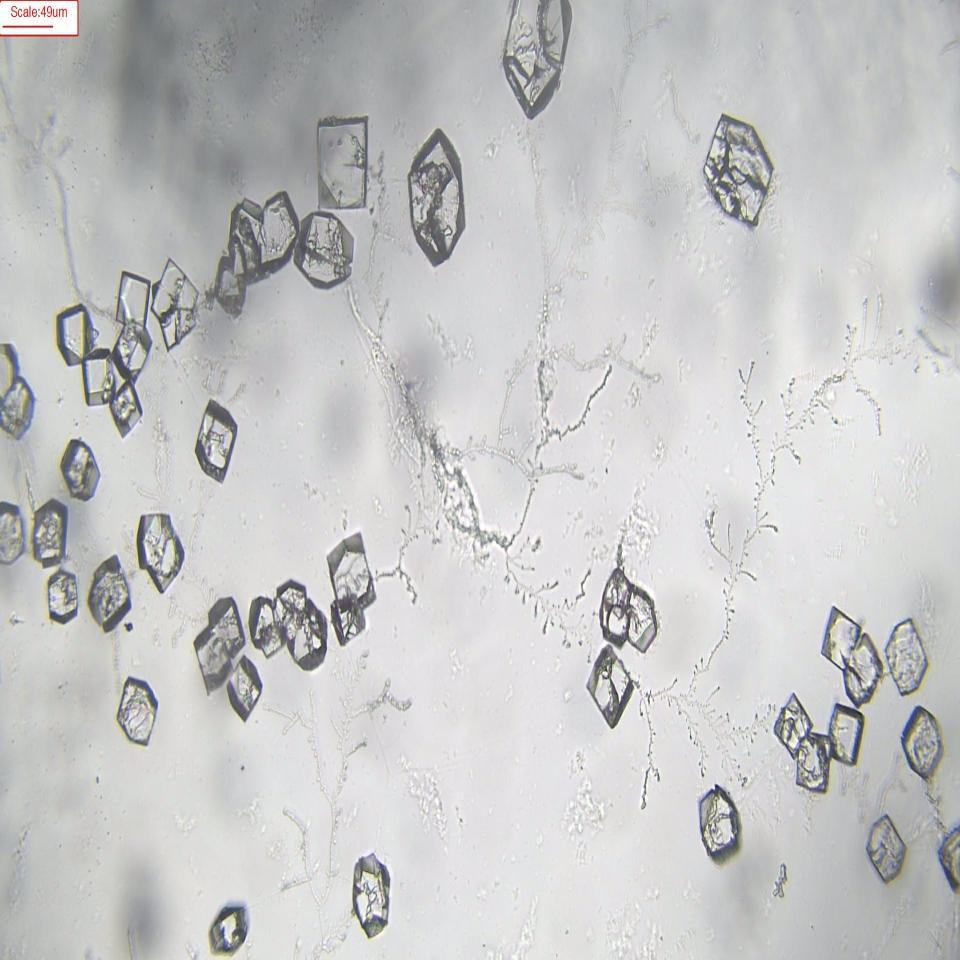crystal: (498, 0, 576, 131), (401, 130, 472, 268), (702, 109, 773, 230), (311, 109, 377, 215), (191, 586, 244, 688), (146, 254, 203, 344), (293, 214, 358, 290), (584, 642, 637, 728), (192, 398, 245, 482), (132, 508, 186, 589), (110, 674, 164, 752), (884, 612, 931, 698), (323, 537, 378, 604), (349, 852, 393, 935), (202, 892, 254, 958), (87, 554, 134, 627), (841, 630, 883, 710), (902, 708, 946, 781), (695, 788, 741, 855), (818, 602, 861, 673), (59, 434, 104, 500), (41, 564, 83, 625), (868, 813, 906, 878), (629, 585, 667, 649), (31, 501, 70, 563), (599, 567, 631, 640), (78, 348, 116, 409), (54, 306, 92, 366), (107, 380, 145, 440), (227, 656, 264, 716), (771, 697, 811, 751), (828, 708, 867, 762), (795, 736, 832, 791), (0, 498, 25, 564)
not_crystal: (210, 198, 288, 302), (251, 592, 327, 661)
